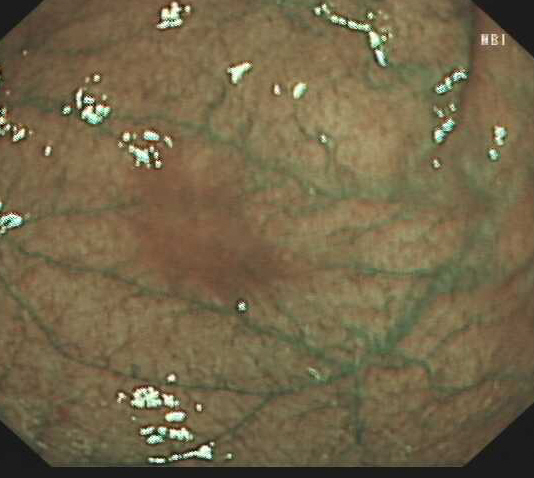others: (123, 141, 307, 310)
